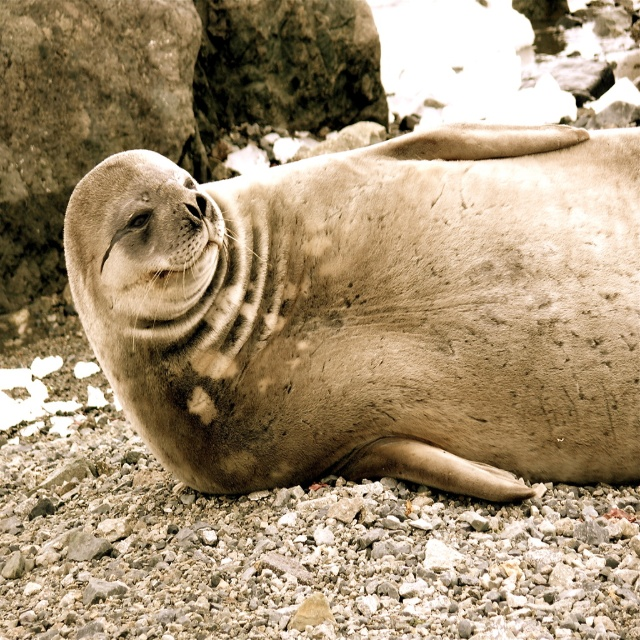Harbor seal: (61, 117, 640, 499)
